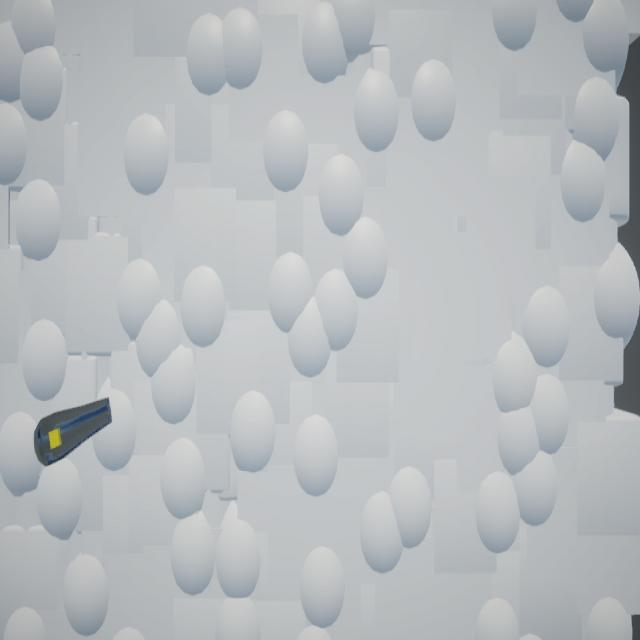handle_knife: (34, 399, 113, 469)
